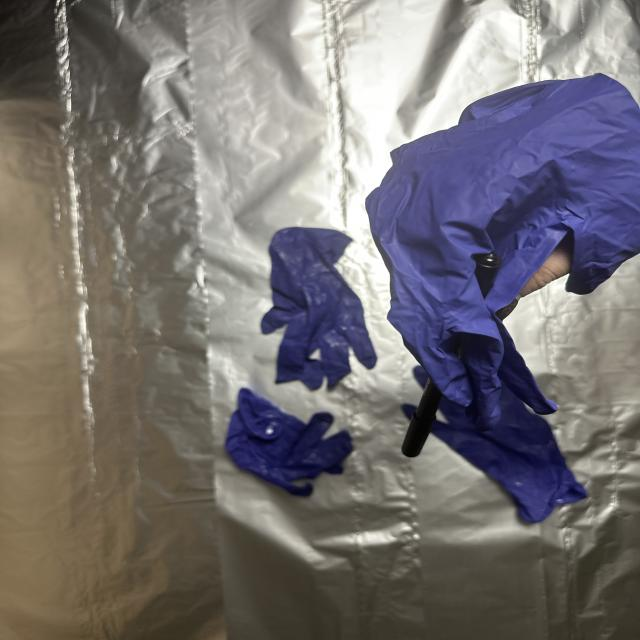glove_not_fitted: (362, 73, 640, 429)
